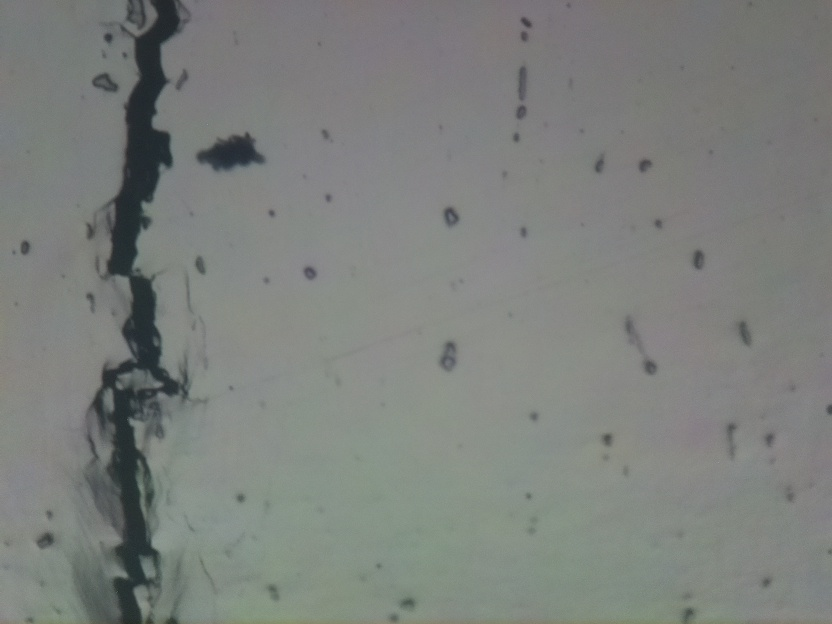crack: (98, 0, 180, 624)
